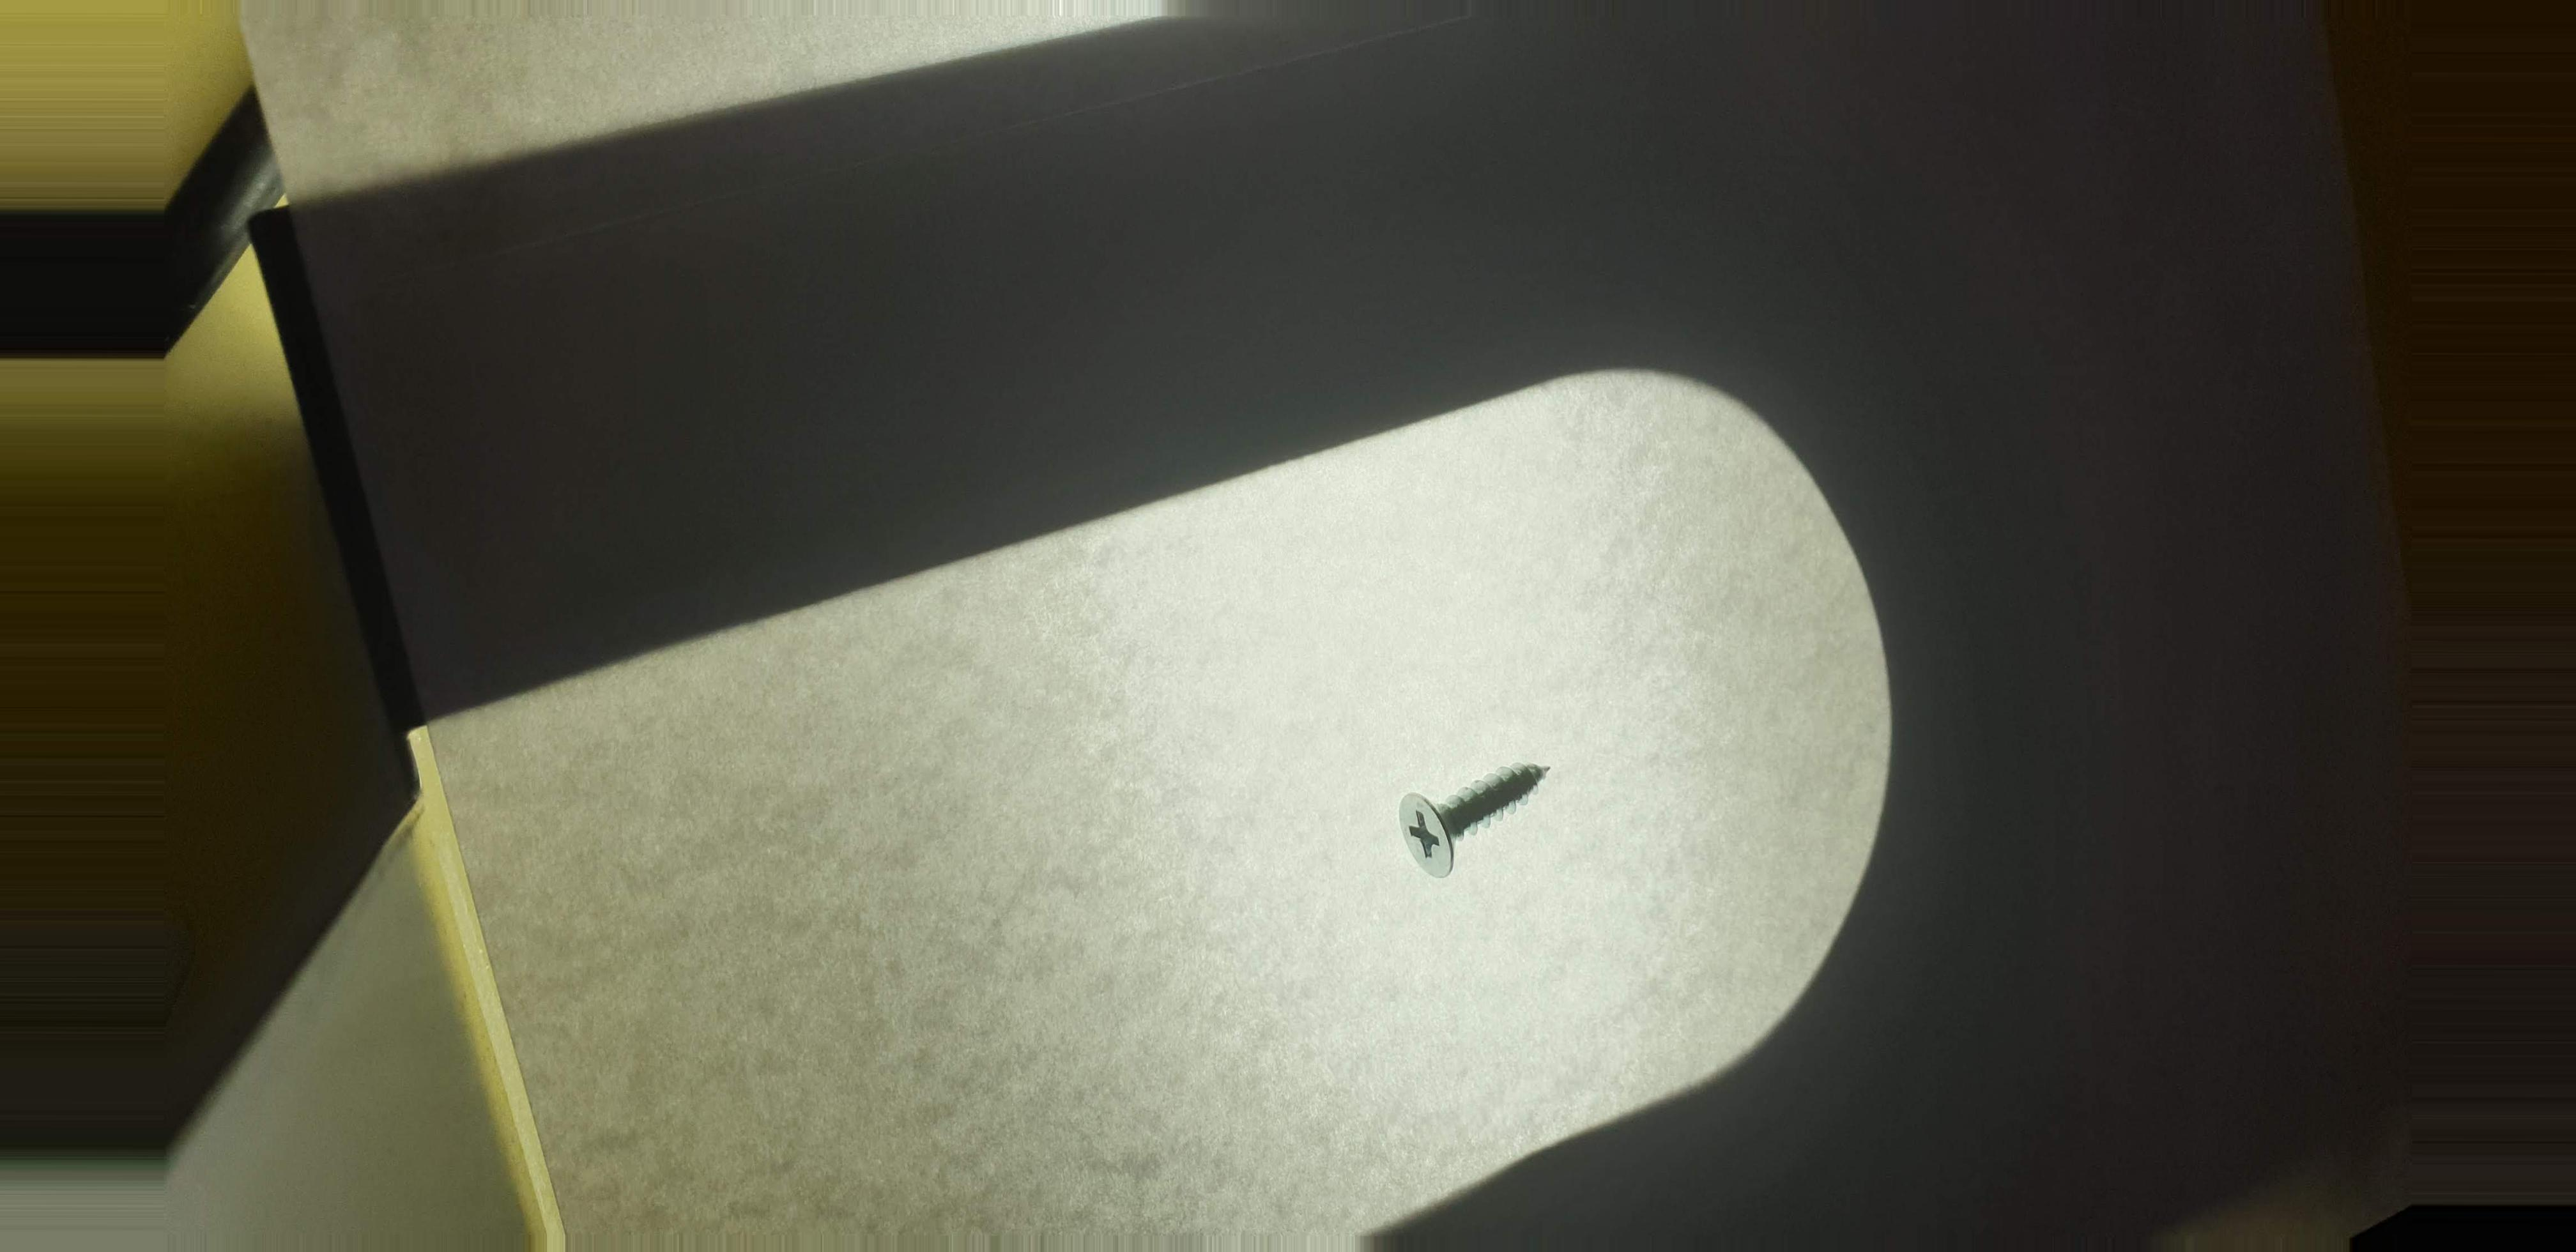S003: (1375, 728, 1571, 894)
